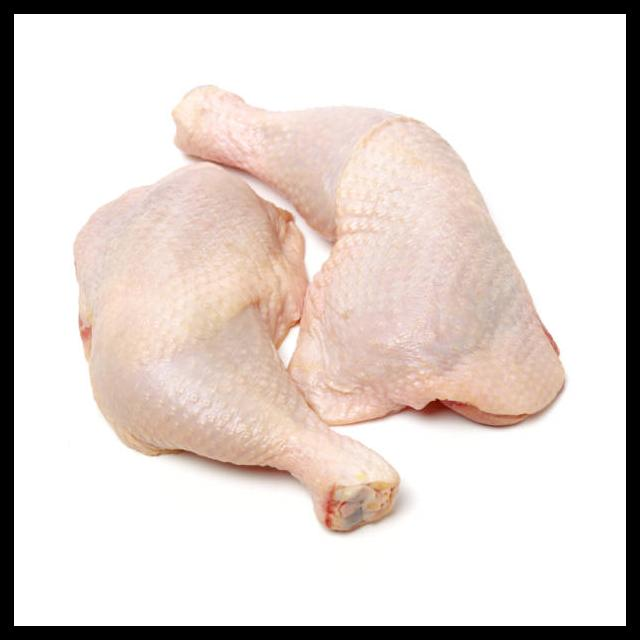chicken: (171, 82, 568, 430), (73, 159, 401, 537)
